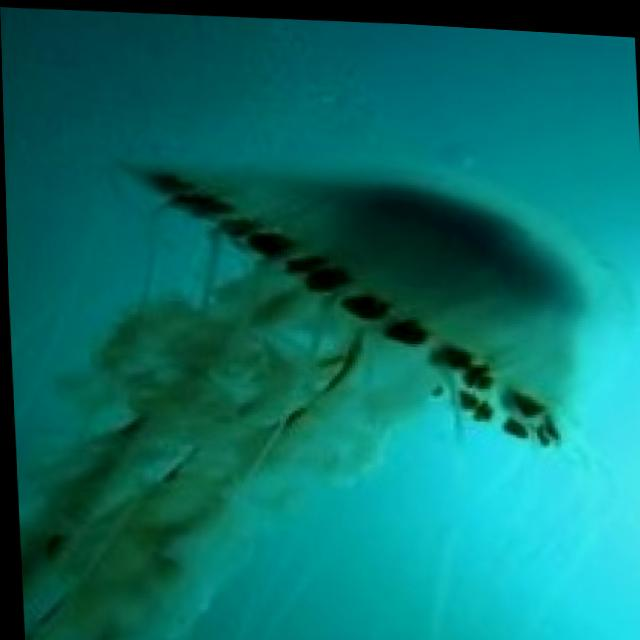Moon-jellyfish: (3, 129, 640, 640)
